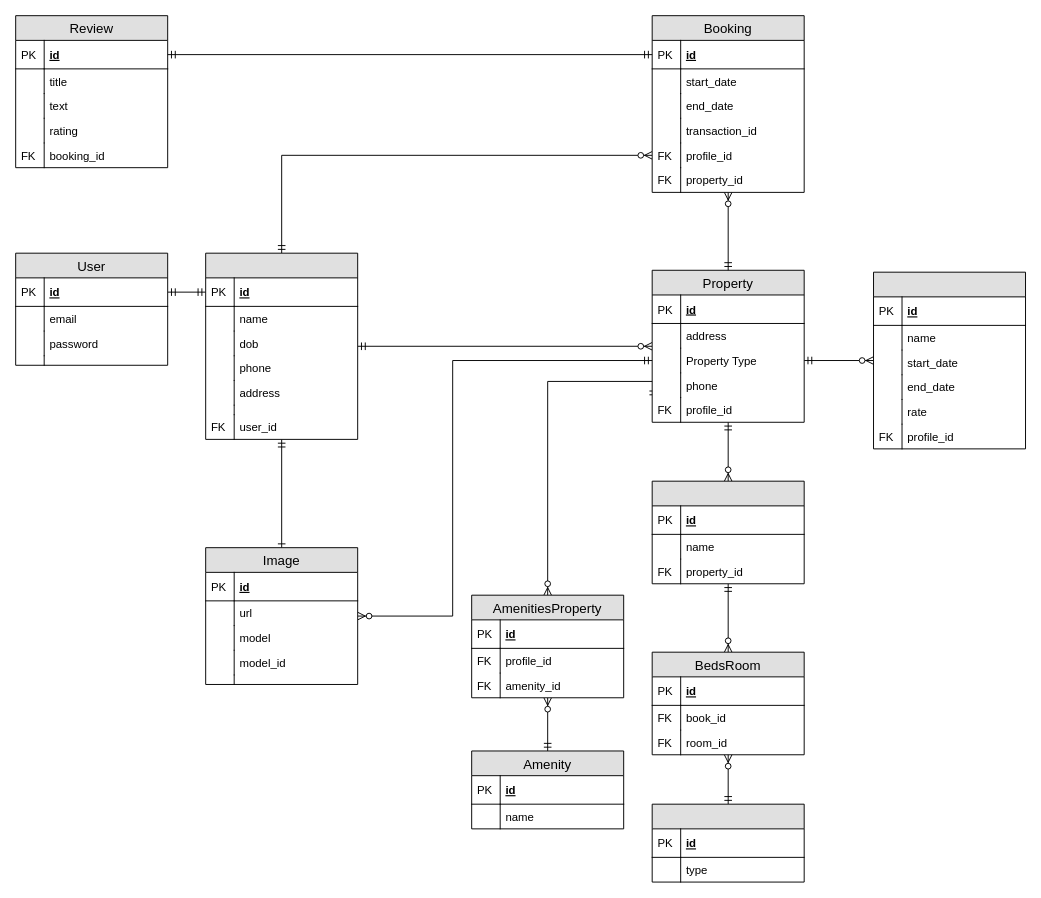
Some shapes in this 1041 by 898 pixel diagram are drawn without their labels. The shapes that lost their labels are listed below. From the top down, each one's box as (x1, y1, x2, y2) in pixels, then its label:
(205, 252, 358, 439): Profile
(873, 271, 1026, 449): Schedule
(651, 480, 804, 584): Room
(651, 803, 804, 882): Bed
